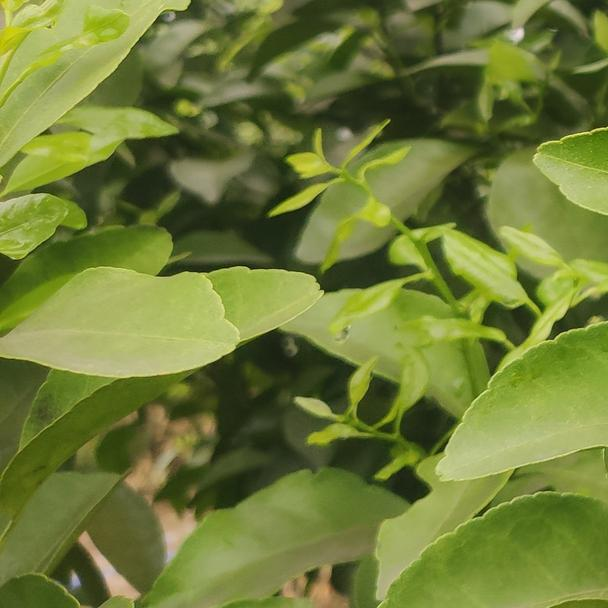shoot: (295, 140, 516, 332), (305, 351, 438, 474)
